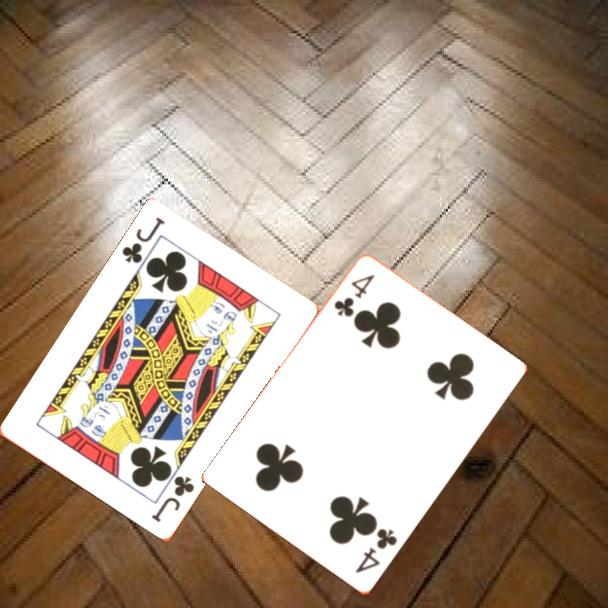c04: (352, 525, 400, 577), (330, 271, 378, 320)
c11: (118, 214, 168, 267), (148, 472, 197, 526)
